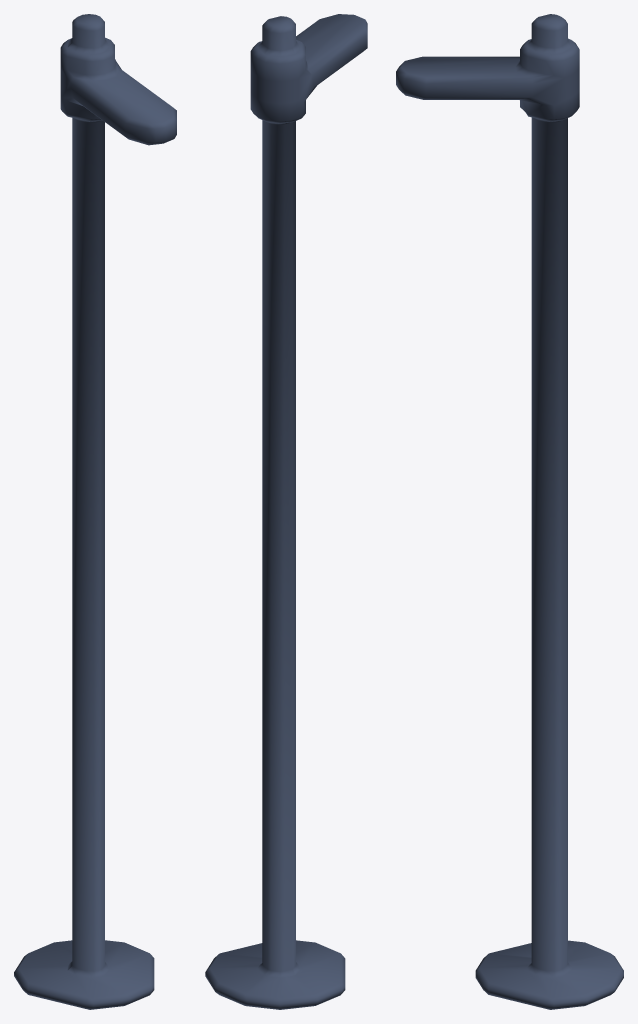
Rendered from Streetlight.fbx.
3 renders of one model, left to right at view 1: azimuth 30°, elevation 25°; view 2: azimuth 150°, elevation 25°; view 3: azimuth 270°, elevation 25°, orthographic.
Parts seen in each view (by area): view 1: Circle.069; view 2: Circle.069; view 3: Circle.069.
Boxes of the visible parts, left/top/right/bottom form: Circle.069: left=14, top=14, right=176, bottom=1009; Circle.069: left=205, top=14, right=367, bottom=1009; Circle.069: left=396, top=14, right=623, bottom=1009.
Size of the model in its own units: 0.6667 by 4.77 by 1.02.
